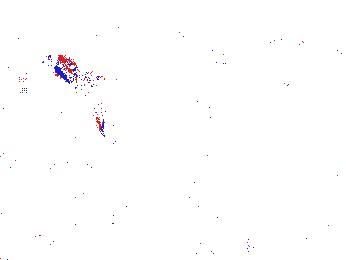X-ray fish: (264, 93, 294, 112), (230, 88, 244, 110)
glassfish: (46, 53, 106, 139)
